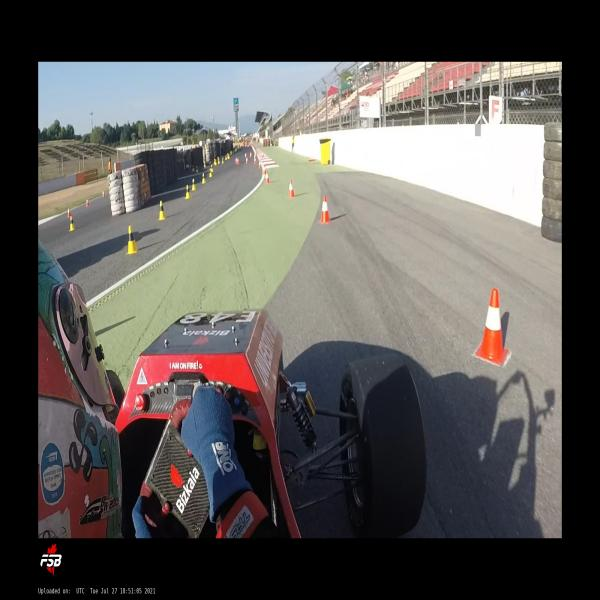orange_cone: (475, 288, 509, 364), (318, 195, 332, 224), (287, 179, 296, 198), (264, 170, 271, 184), (260, 163, 267, 174), (67, 207, 72, 217), (258, 160, 262, 169), (86, 198, 90, 207), (245, 156, 249, 163), (102, 190, 106, 197), (235, 156, 238, 164), (254, 156, 257, 164), (244, 152, 247, 158), (237, 157, 239, 165), (249, 152, 252, 157), (262, 152, 264, 158)
yellow_cone: (126, 225, 140, 255), (158, 200, 167, 220), (68, 215, 76, 232), (185, 184, 191, 198), (192, 178, 196, 190), (202, 173, 206, 183), (209, 168, 213, 177), (211, 164, 214, 174), (195, 166, 198, 172), (214, 159, 217, 165), (221, 157, 224, 163), (204, 161, 206, 168), (225, 154, 227, 161), (192, 165, 194, 171), (218, 158, 220, 164), (228, 154, 230, 159)
